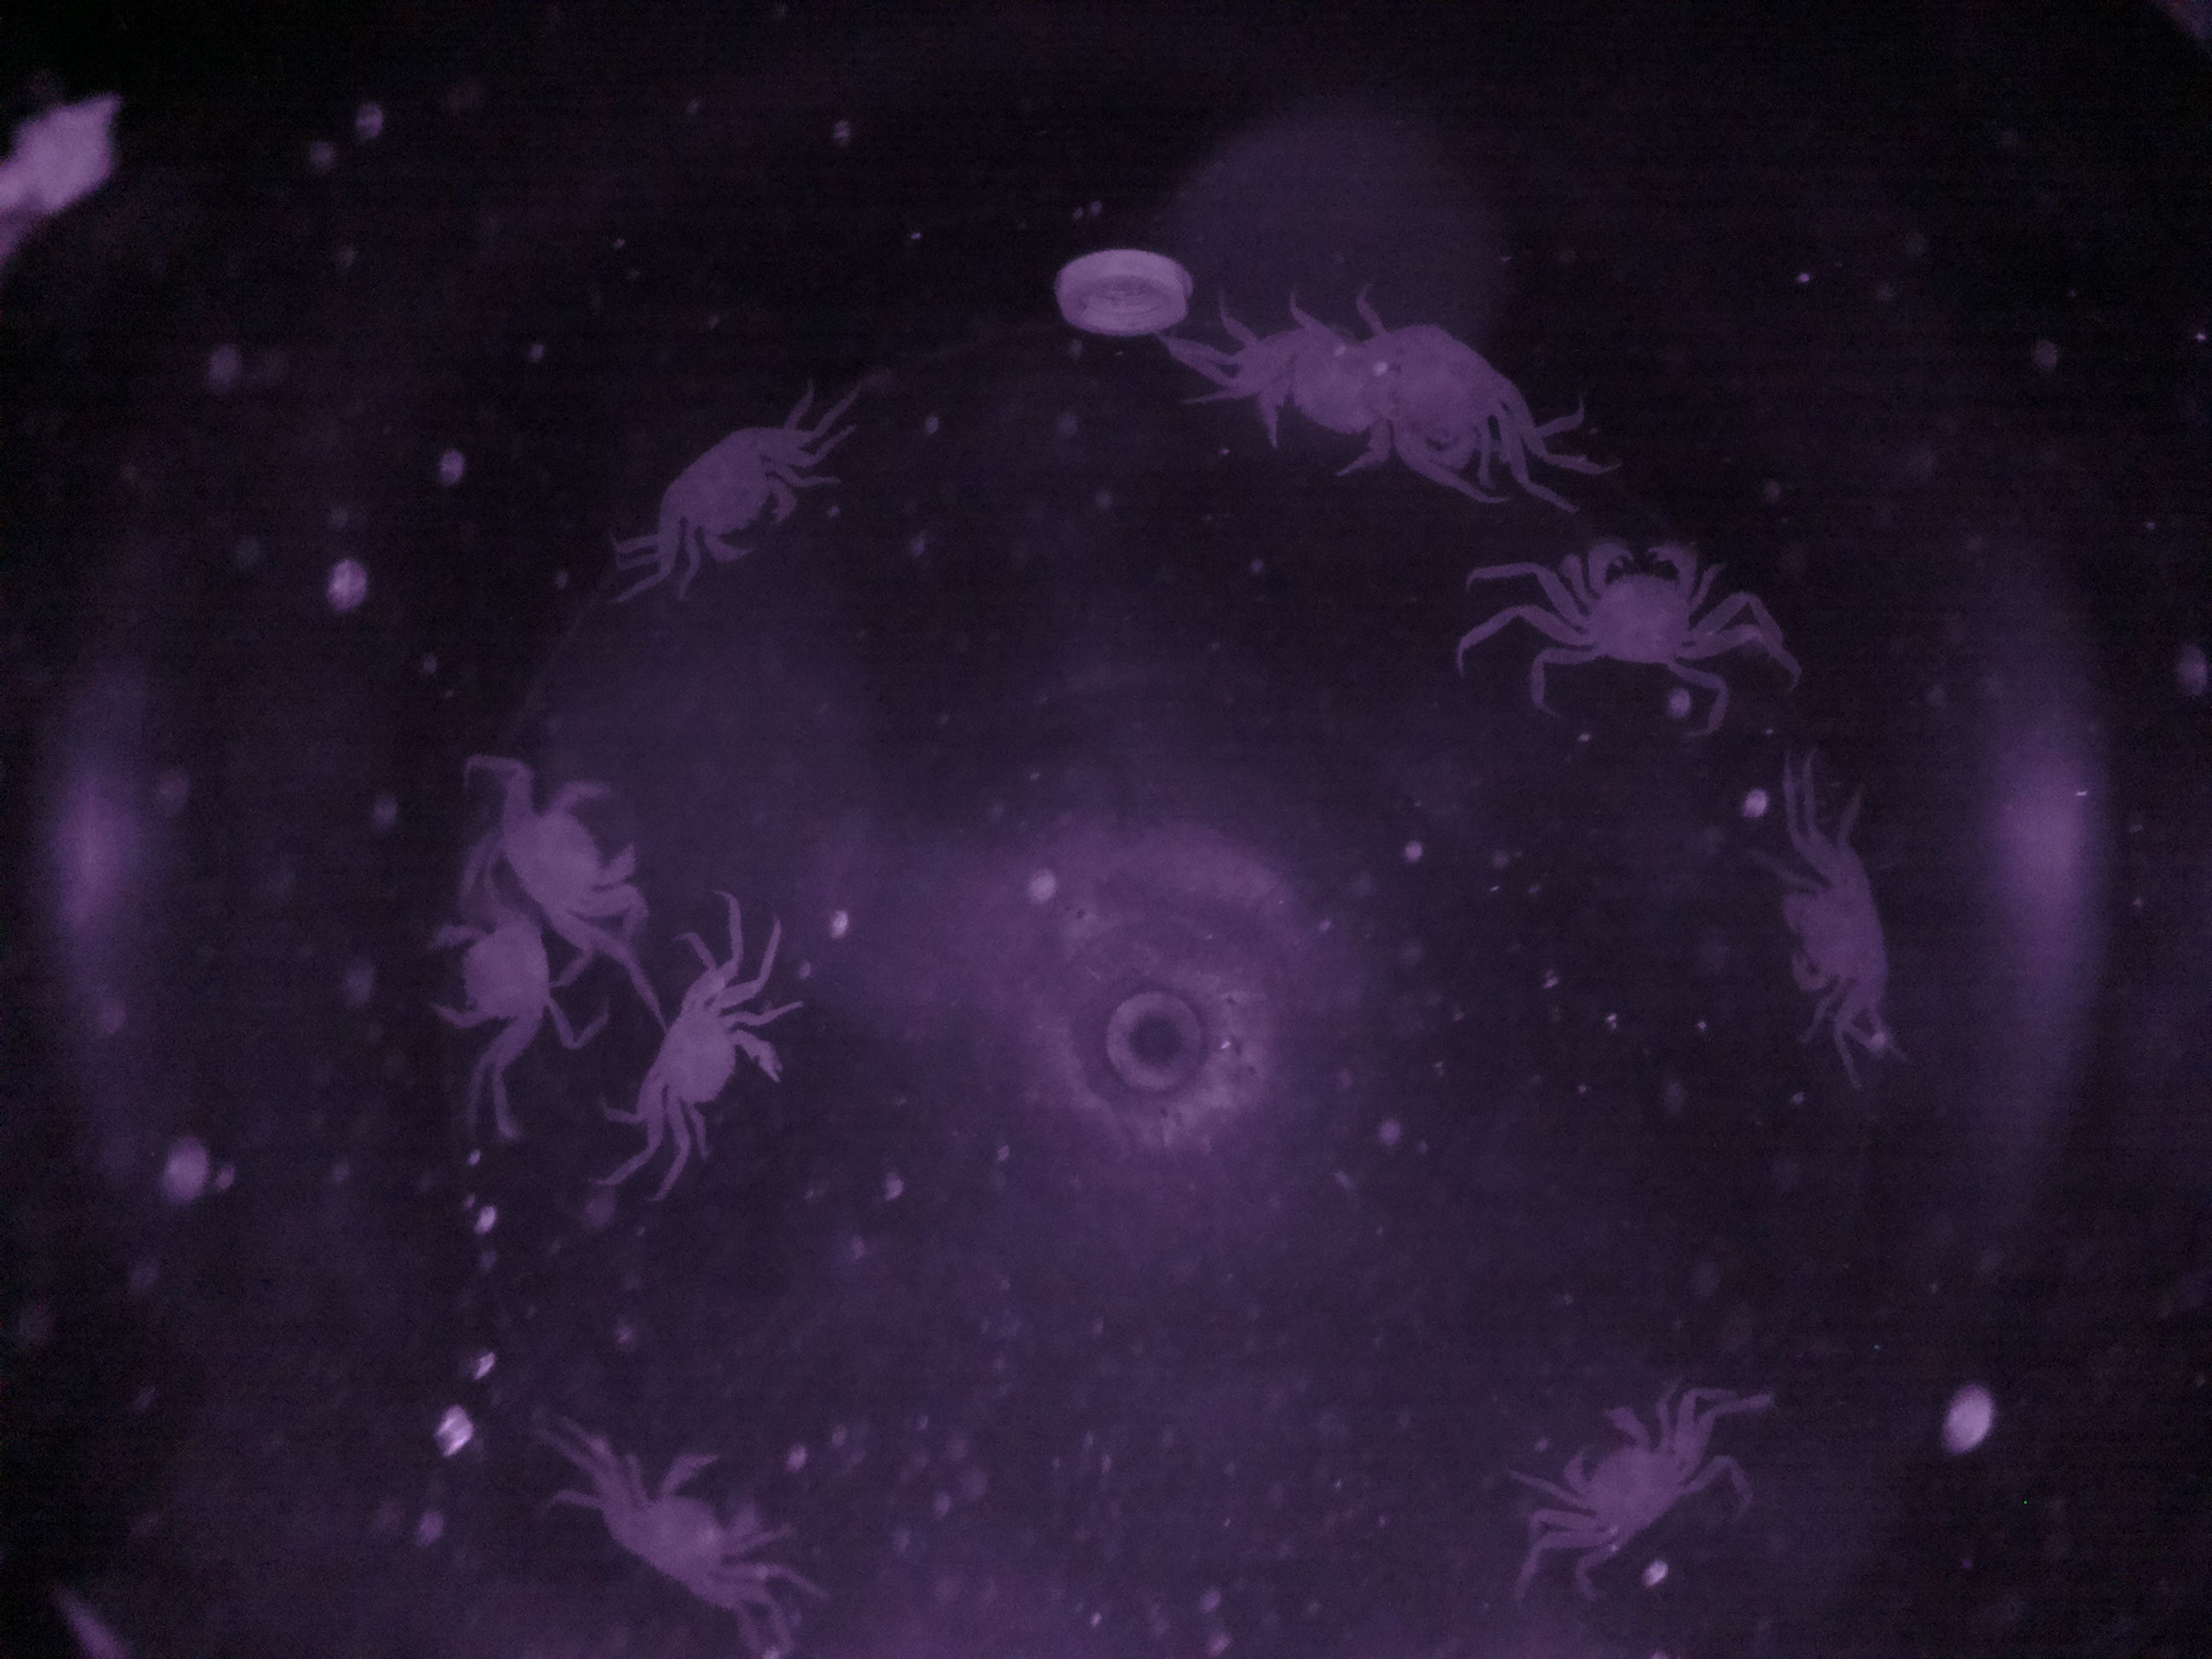Crab: (622, 958, 801, 1190), (1529, 1370, 1719, 1568), (603, 1419, 779, 1633), (1517, 526, 1749, 683), (644, 394, 810, 589), (1759, 840, 1921, 1032)
